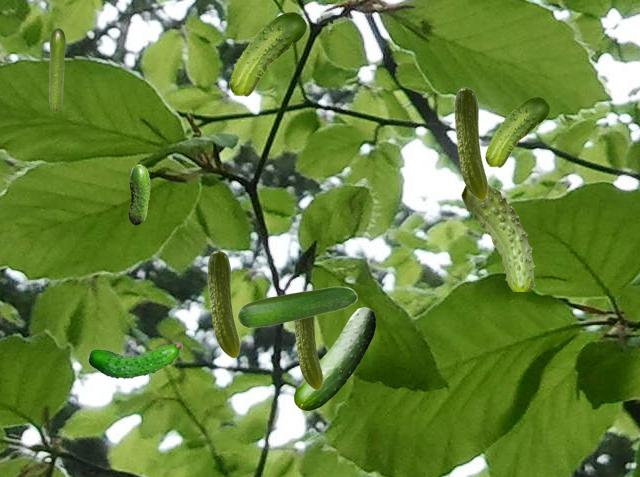cucumber: (294, 307, 374, 409), (461, 183, 534, 290), (229, 12, 305, 95), (237, 286, 356, 327), (485, 97, 548, 166), (87, 337, 181, 378), (454, 87, 487, 199), (207, 250, 239, 357), (293, 317, 322, 389), (128, 164, 149, 224), (49, 28, 64, 111)
